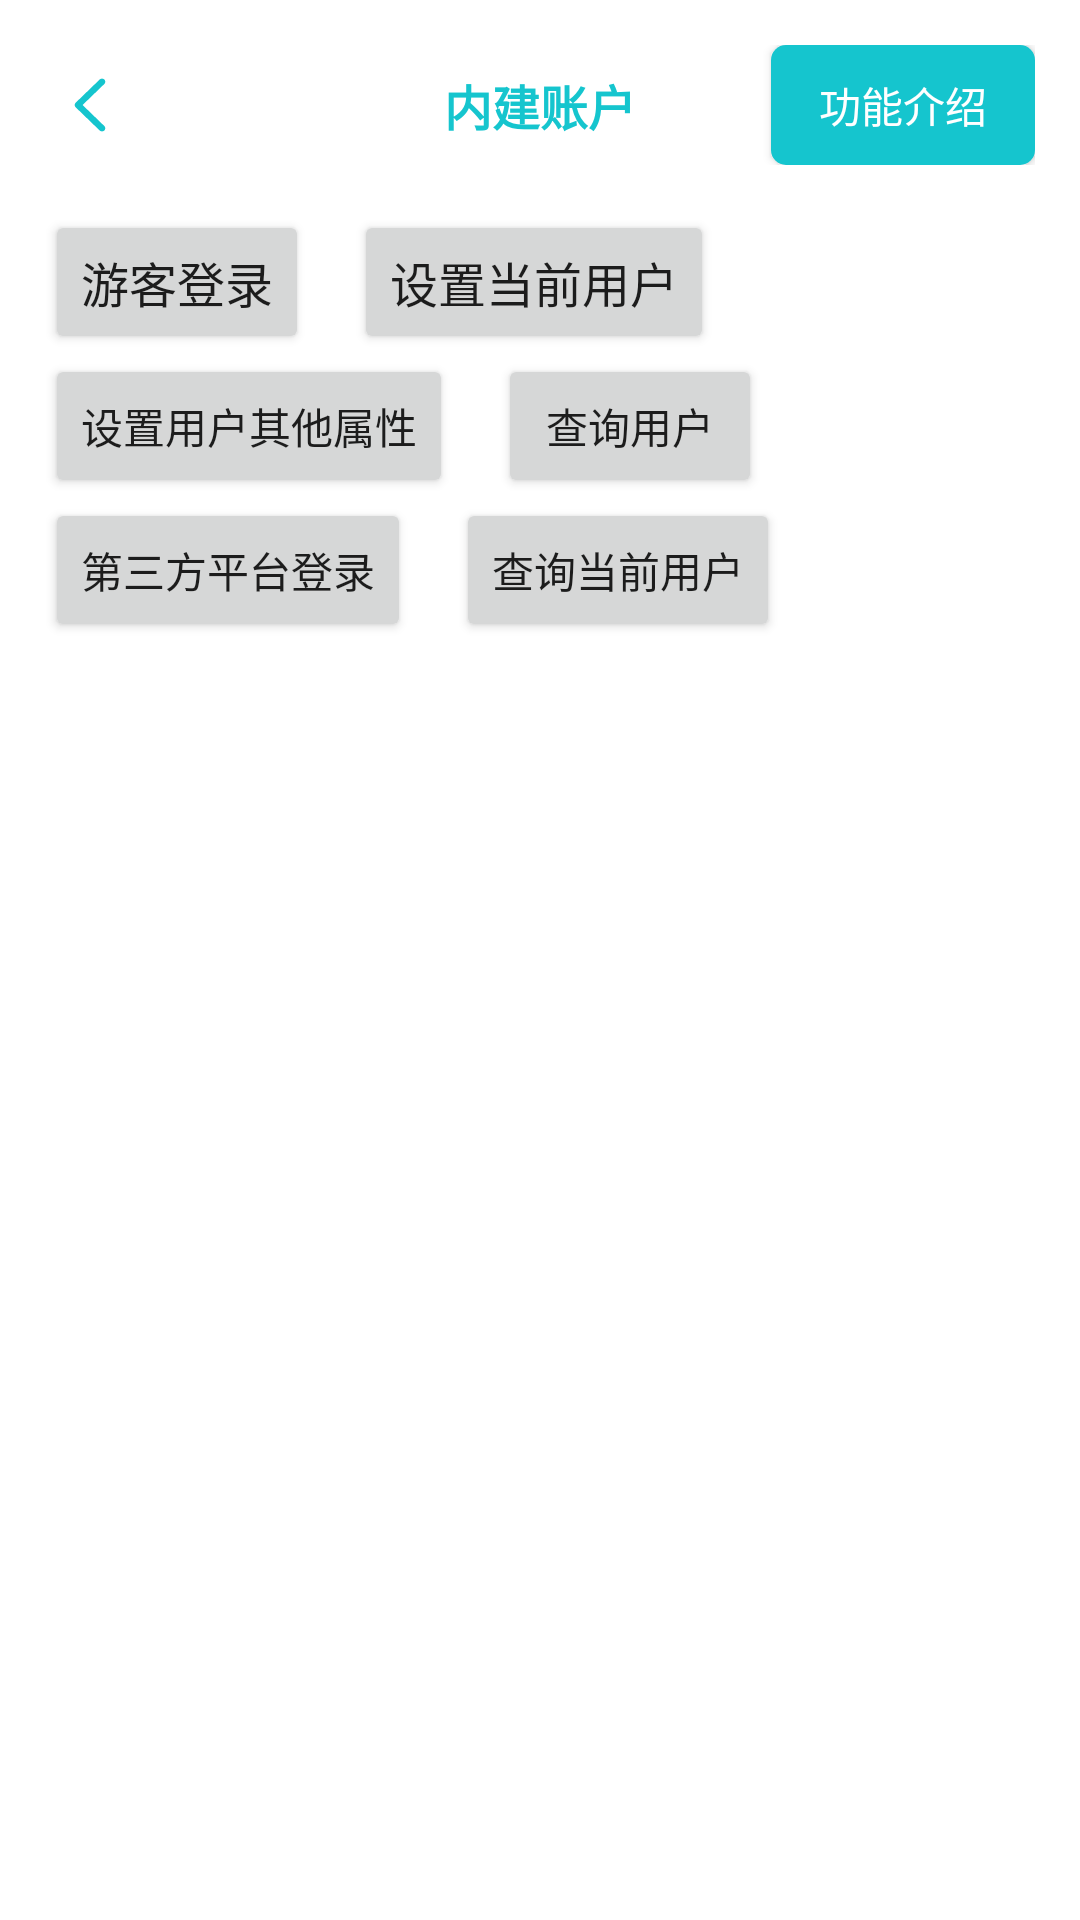

Icons on this 1080px x 1920px Android screen, each with the point to tap as point (x, y):
back: point (90, 105)
